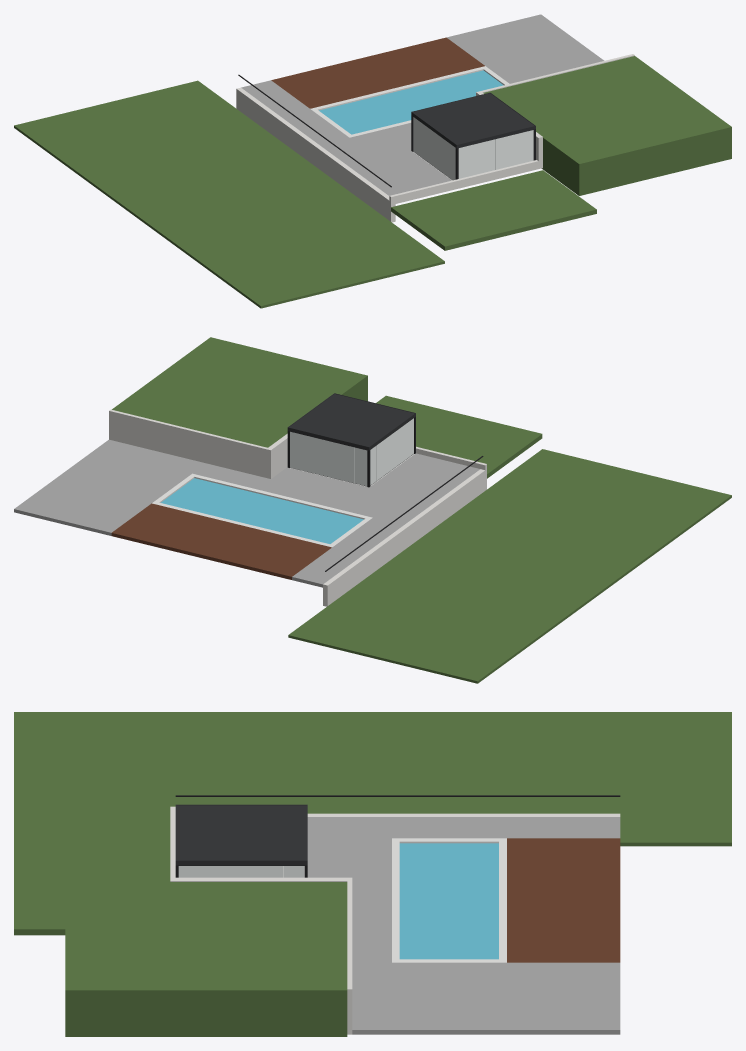
Rendered from Saguramo_Gazebo_winter.fbx.
The picture shows the model from 3 angles, top to bottom: view 1: azimuth 30°, elevation 25°; view 2: azimuth 150°, elevation 25°; view 3: azimuth 270°, elevation 25°; orthographic projection. The views are drawn at different scales.
Visible parts, largest first — view 1: Lawn west (lower), Raised lawn east, Lawn behind, Timber deck, Paving east of pool (extent not measured), Granite paving | gazebo terrace, Pool water, West wall, Roof deck, Granite paving | west of pool, Back wall, Pool coping south (+1 smaller); view 2: Lawn west (lower), Raised lawn east, Paving east of pool (extent not measured), Timber deck, Granite paving | gazebo terrace, Pool water, Lawn behind, Retaining wall along pool strip, West wall, Roof deck, Granite paving | west of pool, Granite paving | strip along pool (+3 smaller); view 3: Lawn west (lower), Raised lawn east, Paving east of pool (extent not measured), Timber deck, Lawn behind, Pool water, Roof deck, Granite paving | gazebo terrace, Granite paving | west of pool, Granite paving | strip along pool, West wall, Pool coping north (+6 smaller).
Boxes of the visible parts, x1,y1,x2,y2 form: Lawn west (lower): (14, 80, 444, 308); Raised lawn east: (483, 56, 731, 195); Lawn behind: (391, 170, 596, 250); Timber deck: (271, 37, 484, 108); Paving east of pool (extent not measured): (446, 14, 604, 83); Granite paving | gazebo terrace: (320, 123, 451, 195); Pool water: (319, 70, 503, 134); West wall: (236, 87, 395, 222); Roof deck: (412, 93, 535, 147); Granite paving | west of pool: (241, 80, 349, 144); Back wall: (389, 160, 542, 204); Pool coping south: (310, 66, 487, 110); Lawn west (lower): (288, 449, 731, 683); Raised lawn east: (112, 337, 367, 447); Paving east of pool (extent not measured): (14, 450, 191, 535); Timber deck: (111, 503, 331, 579); Granite paving | gazebo terrace: (257, 453, 480, 524); Pool water: (161, 478, 363, 543); Lawn behind: (376, 395, 542, 478); Retaining wall along pool strip: (109, 409, 267, 477); West wall: (323, 469, 486, 606); Roof deck: (287, 394, 415, 449); Granite paving | west of pool: (292, 517, 403, 587); Granite paving | strip along pool: (95, 439, 270, 489); Lawn west (lower): (14, 712, 731, 846); Raised lawn east: (65, 882, 347, 1036); Paving east of pool (extent not measured): (392, 962, 620, 1034); Timber deck: (507, 838, 620, 962); Lawn behind: (14, 821, 170, 935); Pool water: (399, 843, 498, 959); Roof deck: (176, 805, 306, 865); Granite paving | gazebo terrace: (307, 817, 391, 918); Granite paving | west of pool: (392, 817, 620, 838); Granite paving | strip along pool: (352, 918, 391, 1034); West wall: (307, 813, 620, 816); Pool coping north: (392, 838, 399, 962).
Size of what is drawn, in the model's own units: 3200 by 400 by 2800.
